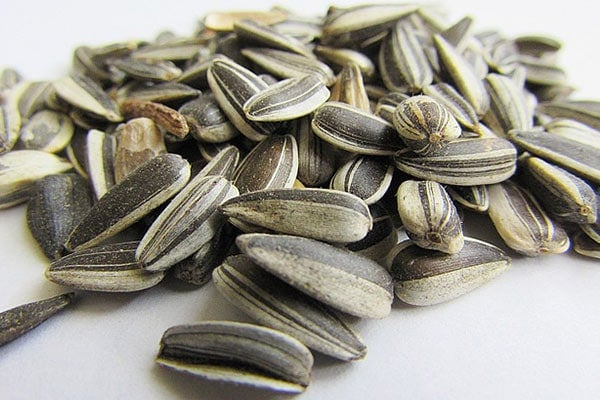seed: (1, 1, 600, 397)
